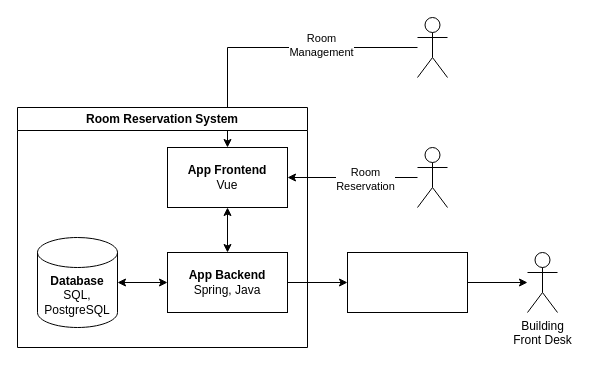
Some shapes in this 589 by 366 pixel diagram are drawn without their labels. Here are the shapes that lost their labels. From the top down, the centre of each, then its label:
At [432,47]: "Building Administrator".
At [432,177]: "Regular User".
At [407,282]: "Email System SendGrid?".
